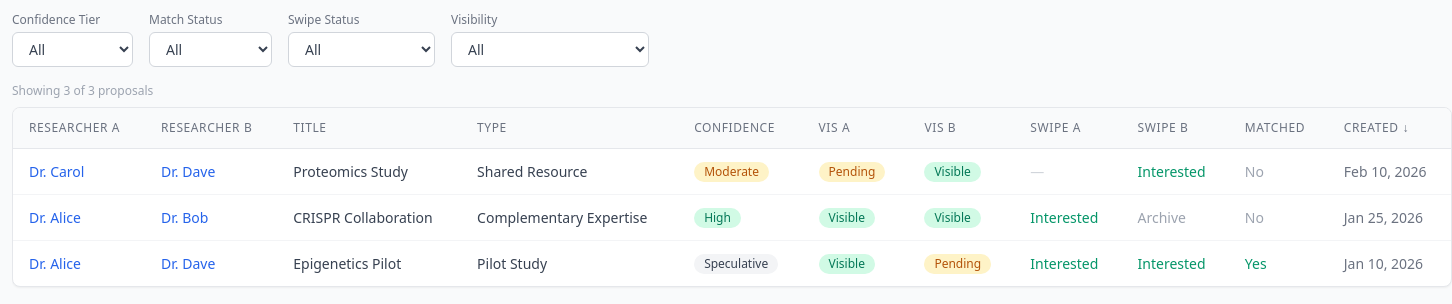
Test: ProposalsTable › clears all filters when Clear filters is clicked
Select "Matched" in the dropdown labelled "Match Status". click: (210, 50)
box: [149,32,272,67]
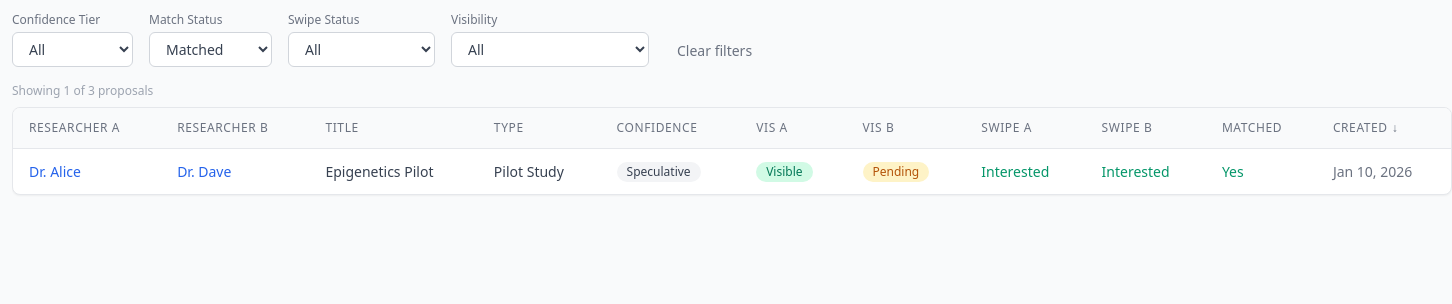
Expected: the text "Showing 1 of 3 proposals" is shown, [12,82,153,99]
Click the button "Clear filters". click: (715, 51)
box: [665,35,764,67]
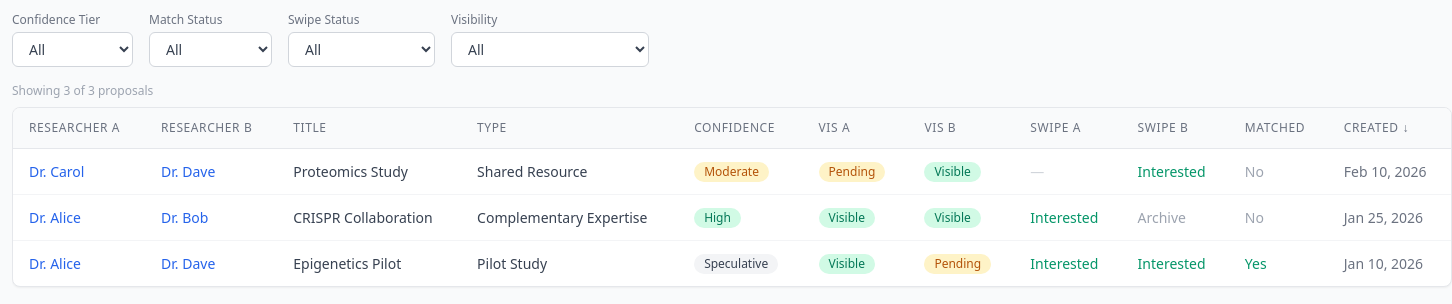
Expected: the text "Showing 3 of 3 proposals" is shown, [12,82,153,99]
